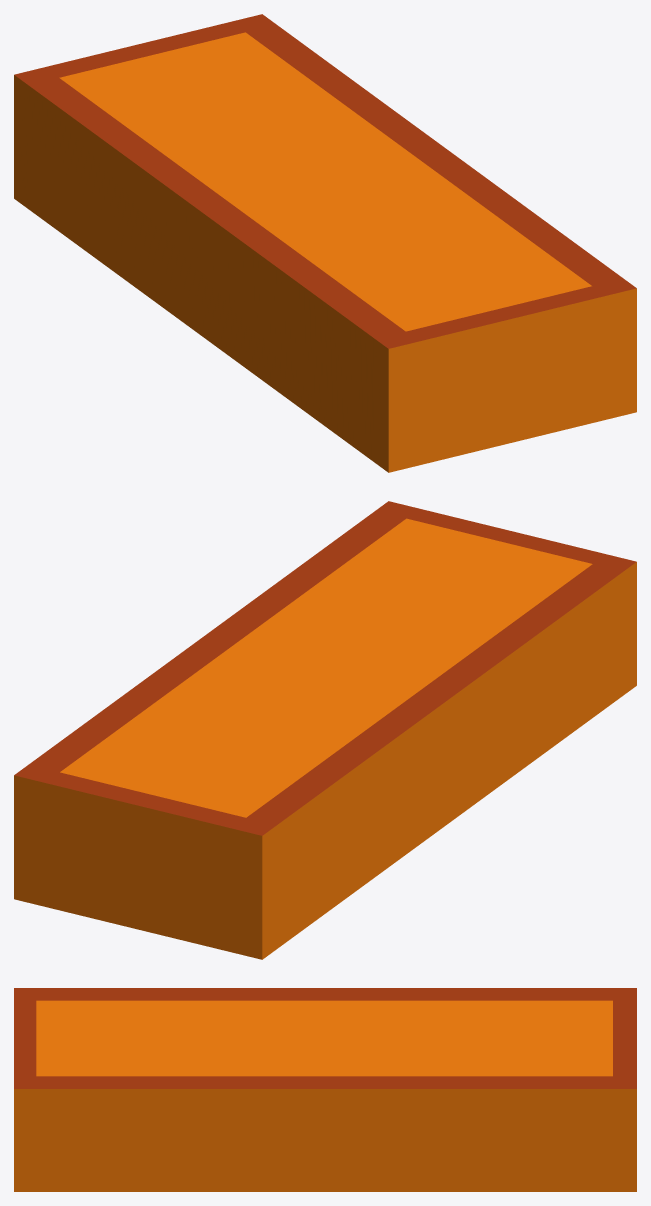
File: fbx 12 button.fbx
3 renders of one model, top to bottom at view 1: azimuth 30°, elevation 25°; view 2: azimuth 150°, elevation 25°; view 3: azimuth 270°, elevation 25°, orthographic. The views are drawn at different scales.
Parts seen in each view (by area): view 1: Cube.001; view 2: Cube.001; view 3: Cube.001.
Boxes of the visible parts, box(x1,y1,x2,y2) form: Cube.001: box(14, 14, 636, 472); Cube.001: box(14, 501, 636, 959); Cube.001: box(14, 988, 636, 1191).
Size of the model in its own units: 51.8 by 24.7 by 135.
